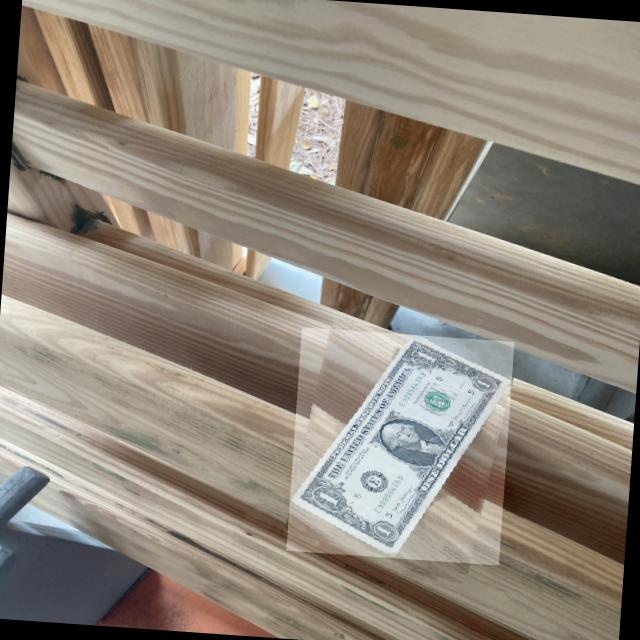one: (290, 316, 512, 568)
